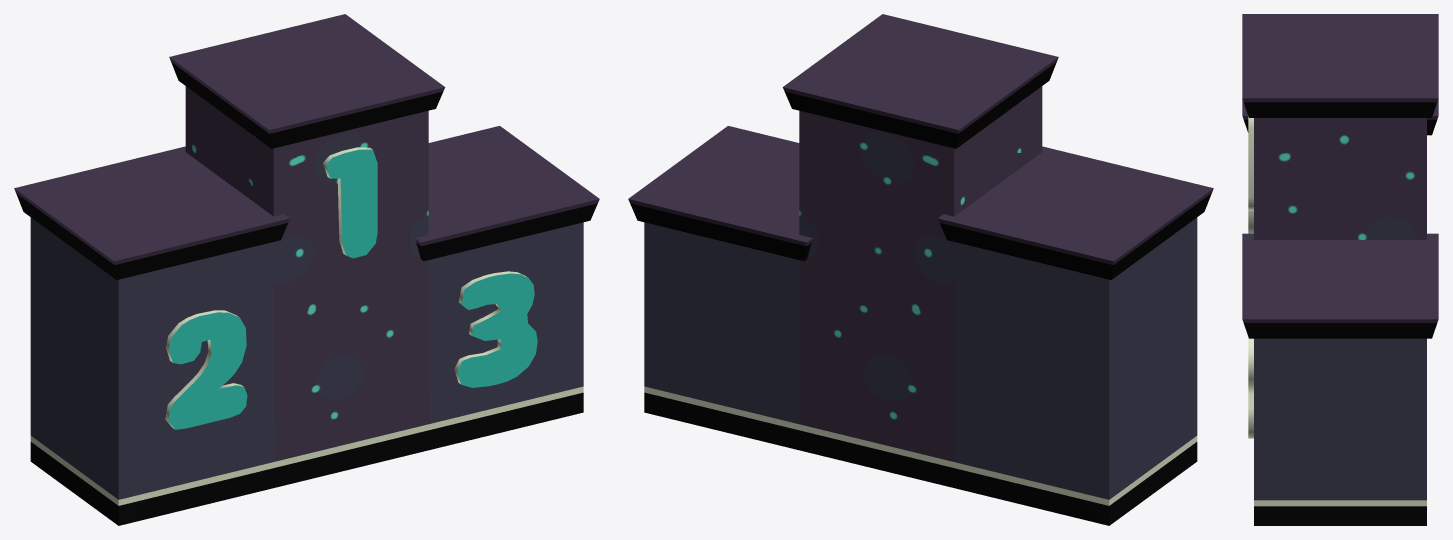
The model's file is Podium01.glb.
The picture shows the model from 3 angles, left to right: view 1: azimuth 30°, elevation 25°; view 2: azimuth 150°, elevation 25°; view 3: azimuth 270°, elevation 25°; orthographic projection.
Visible parts, largest first — view 1: Podium; view 2: Podium; view 3: Podium.
Boxes of the visible parts, x1,y1,x2,y2 form: Podium: (14,14,599,525); Podium: (628,14,1213,525); Podium: (1242,14,1438,525).
Size of the model in its own units: 3.53 by 2.53 by 1.26.
1 material, 1 textured.
